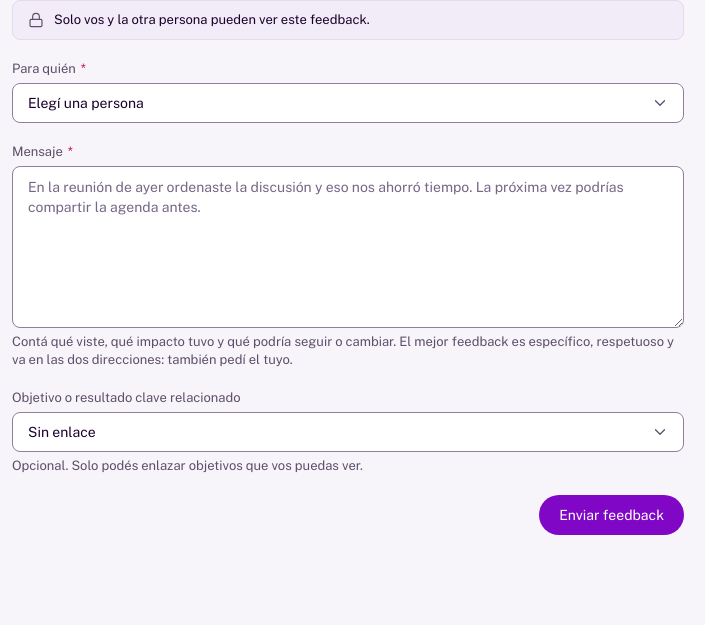
Scenario: FeedbackForm › muestra el error del servidor y conserva lo tipeado
Type "Mi texto" into the text box labelled "Mensaje*".
click(348, 247); type("Mi texto")  # box [12,166,684,328]
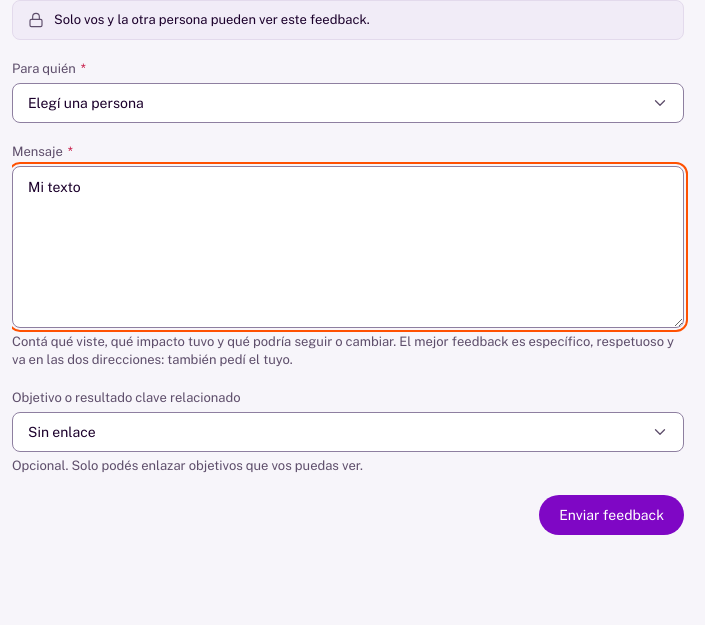
Click the button "Enviar feedback".
click(612, 515)  # box [539,495,684,535]
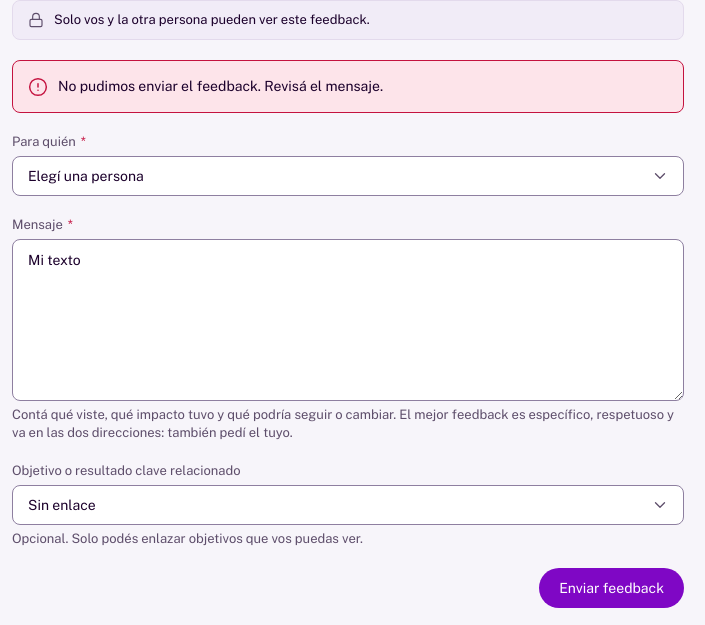
expect the message shows "No pudimos enviar el feedback": met, box [58,78,383,94]
